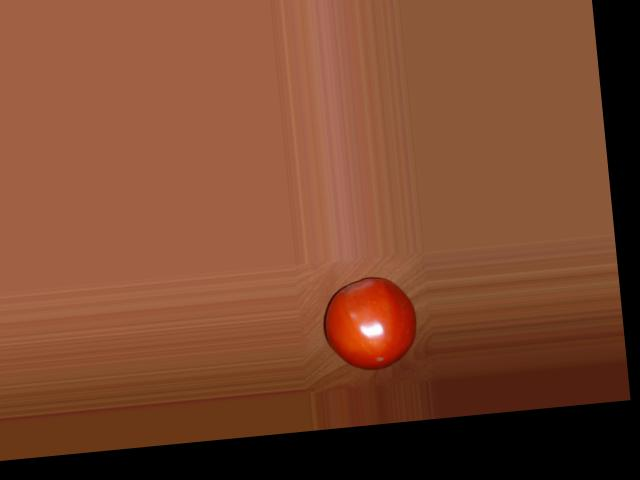tomato: (320, 273, 421, 374)
